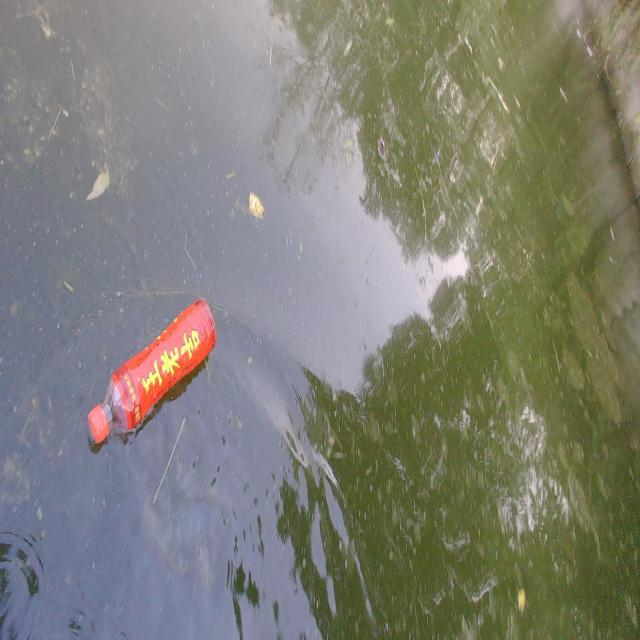bottle: (78, 268, 237, 459)
